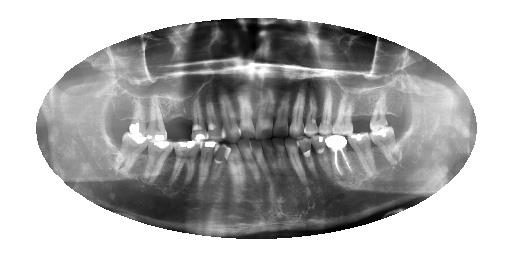Cavity: (257, 99, 273, 142), (275, 95, 291, 137), (275, 142, 288, 181), (267, 141, 278, 180)
Fillings: (117, 132, 145, 170), (173, 139, 197, 183), (147, 140, 174, 178), (124, 97, 149, 135), (199, 138, 217, 190)
Implant: (329, 135, 351, 179)
